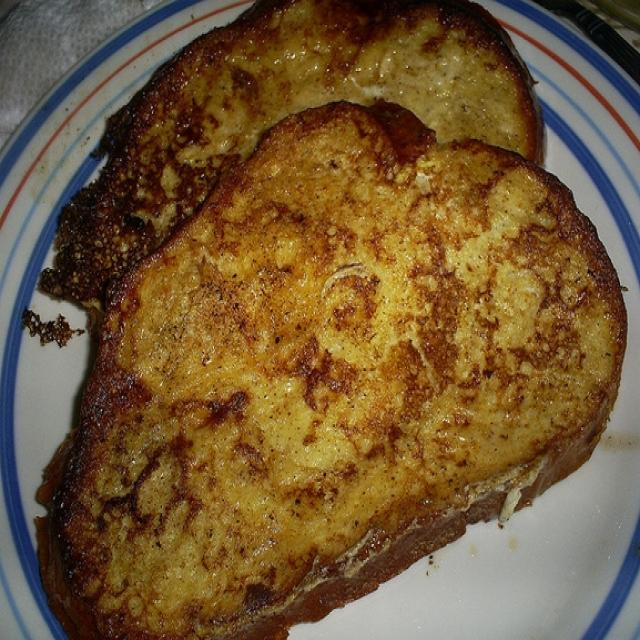面包点心: (11, 15, 623, 628)
